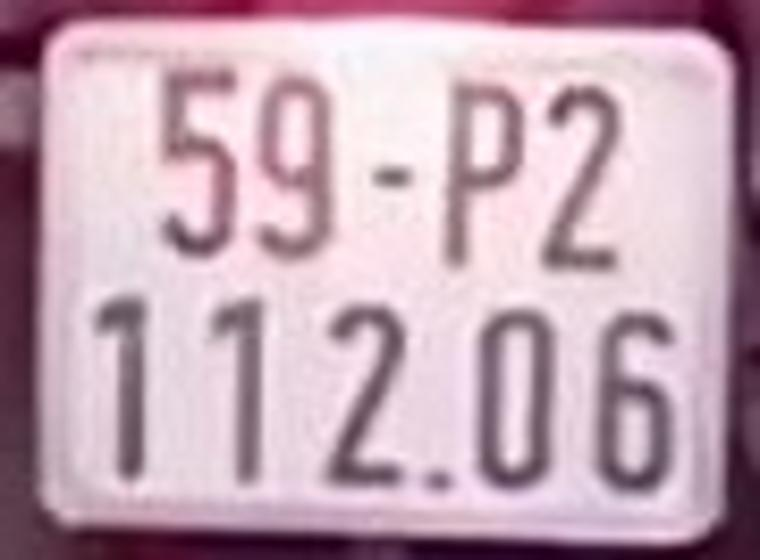-: (369, 148, 423, 196)
.: (423, 461, 456, 493)
0: (473, 309, 557, 490)
1: (201, 291, 270, 487), (92, 290, 153, 481)
2: (319, 291, 414, 487), (543, 76, 631, 267)
5: (148, 64, 242, 268)
6: (592, 305, 679, 499)
9: (257, 76, 335, 269)
P: (432, 76, 521, 264)
